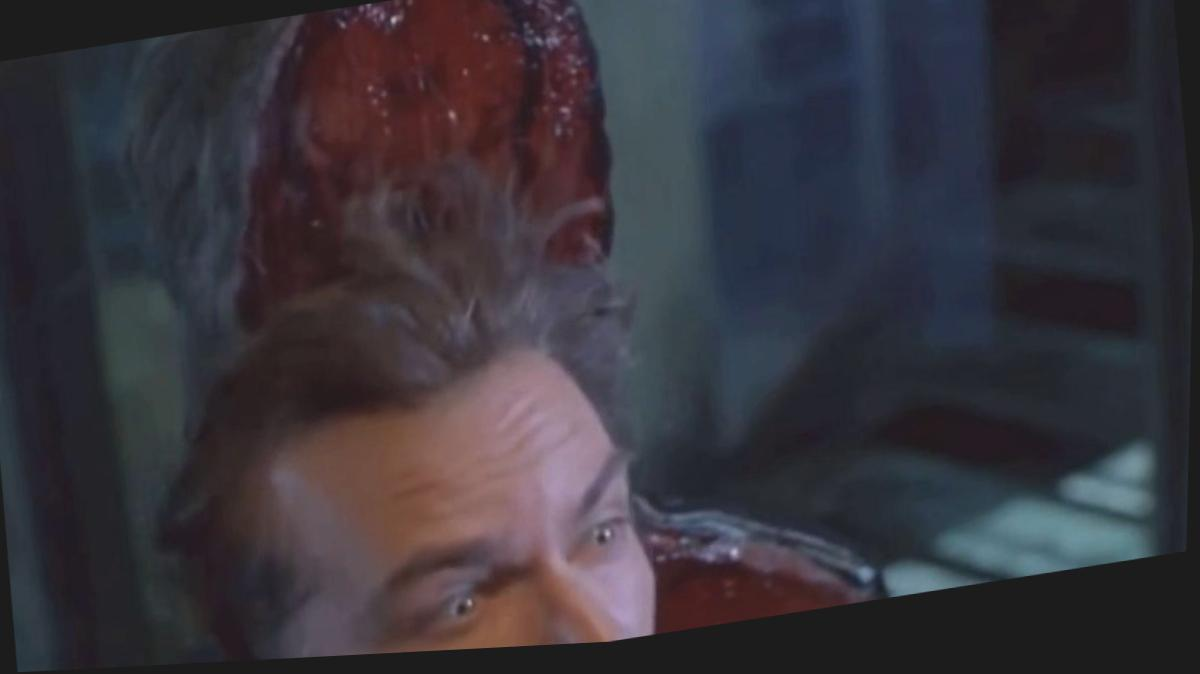Fire: (232, 0, 613, 333), (637, 509, 887, 641)
